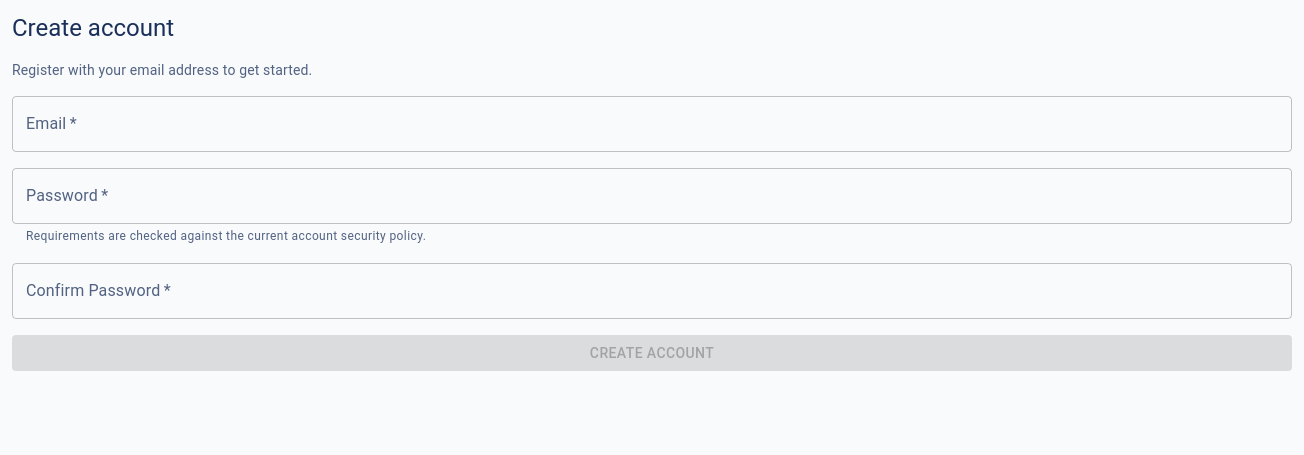
Test: Register › asks Firebase to validate before creating an account
Type "new@example.com" into the field labelled "Email *" at point(652, 124), box [12,96,1292,152]
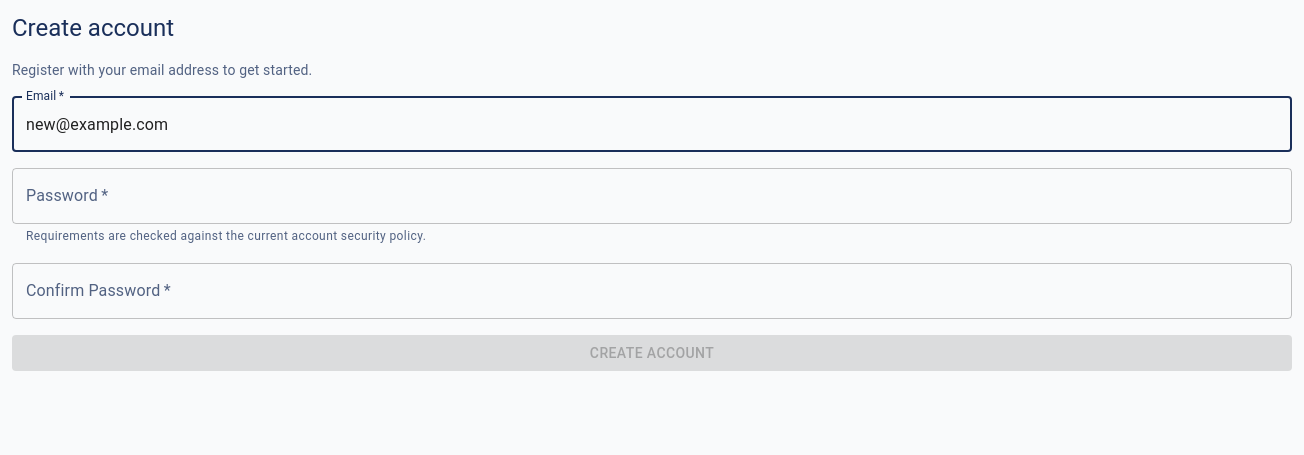
Type "short" into the password field labelled "Password *" at point(652, 196), box [12,168,1292,224]
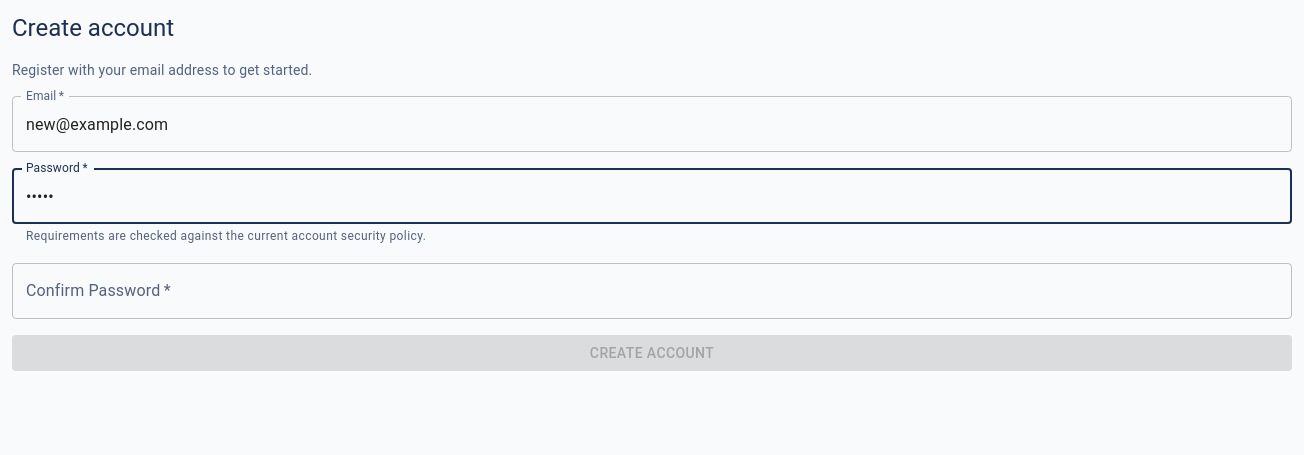
Type "short" into the password field labelled "Confirm Password *" at point(652, 291), box [12,263,1292,319]
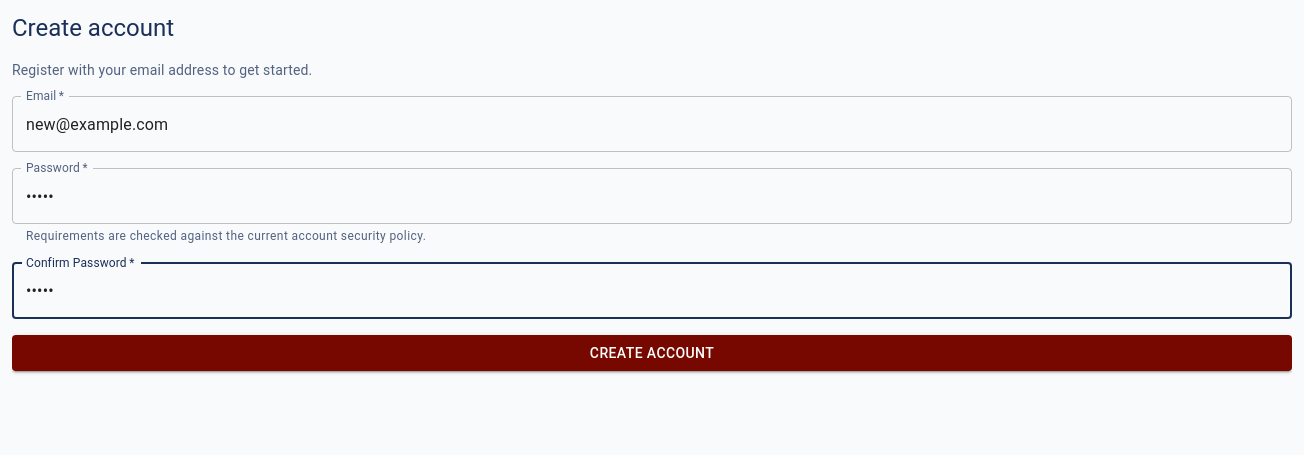
Click the button "Create account" at point(652, 353), box [12,335,1292,371]
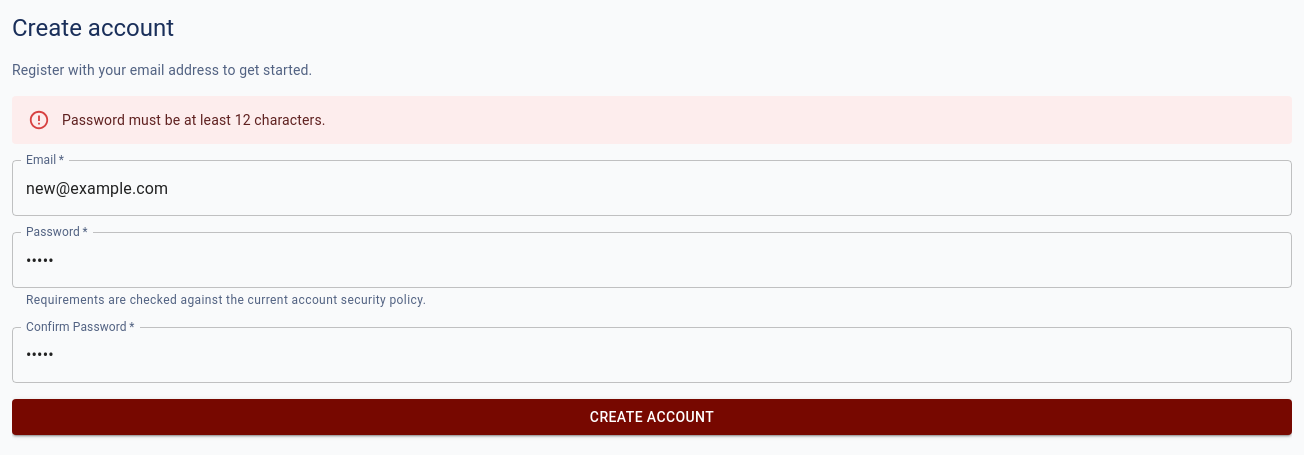
Check: the text "Password must be at least 12 characters." is shown, box [62,112,326,128]
